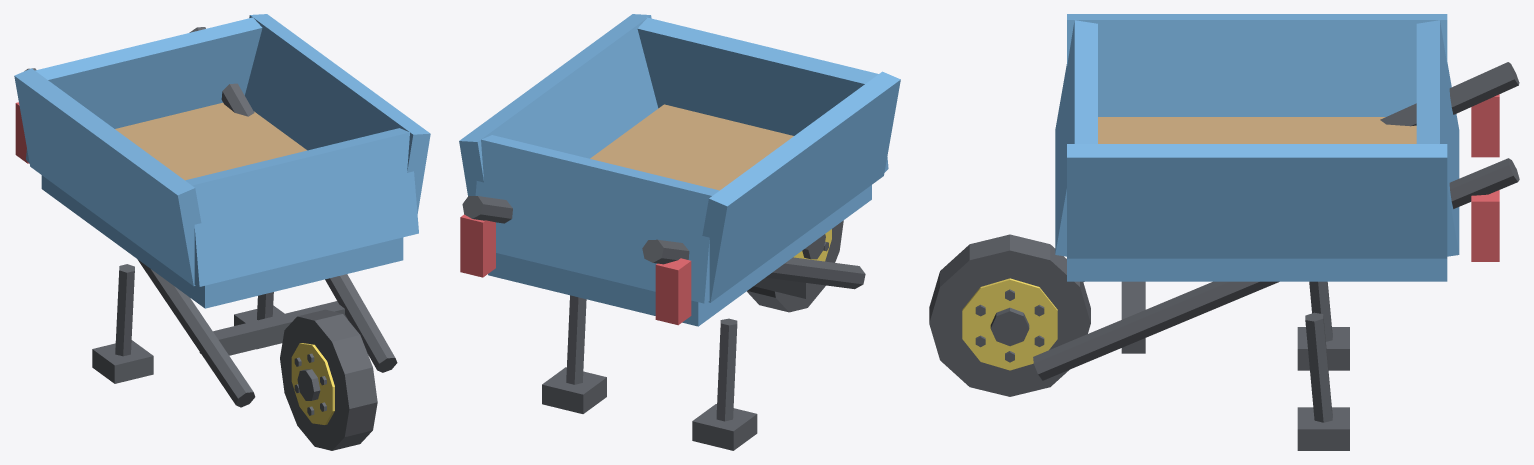
The model's file is lawn-mowing-simulator-kit-wheelbarrow-6392eade__27382.glb.
3 renders of one model, left to right at view 1: azimuth 30°, elevation 25°; view 2: azimuth 150°, elevation 25°; view 3: azimuth 270°, elevation 25°, orthographic. The views are drawn at different scales.
Visible parts, largest first — view 1: barrow-tray/blue, wheelbarrow, wheel-barrow/dark, barrow-tray/wood, wheel-barrow/yellow; view 2: barrow-tray/blue, wheelbarrow, barrow-tray/wood, wheel-barrow/dark; view 3: barrow-tray/blue, wheelbarrow, wheel-barrow/dark, barrow-tray/wood, wheel-barrow/yellow.
Part boxes in pixels (x1,y1,x2,y2): barrow-tray/blue: (14, 14, 430, 308); wheelbarrow: (15, 27, 397, 407); wheel-barrow/dark: (280, 309, 377, 450); barrow-tray/wood: (115, 102, 306, 180); wheel-barrow/yellow: (291, 343, 334, 424); barrow-tray/blue: (459, 14, 900, 326); wheelbarrow: (460, 196, 865, 450); barrow-tray/wood: (590, 104, 793, 190); wheel-barrow/dark: (747, 220, 843, 312); barrow-tray/blue: (1055, 14, 1459, 281); wheelbarrow: (1033, 62, 1519, 450); wheel-barrow/dark: (929, 234, 1090, 396); barrow-tray/wood: (1098, 117, 1416, 143); wheel-barrow/yellow: (962, 278, 1057, 370).
Bounding box in the file's own units: 0.7144 × 0.7374 × 1.24.
